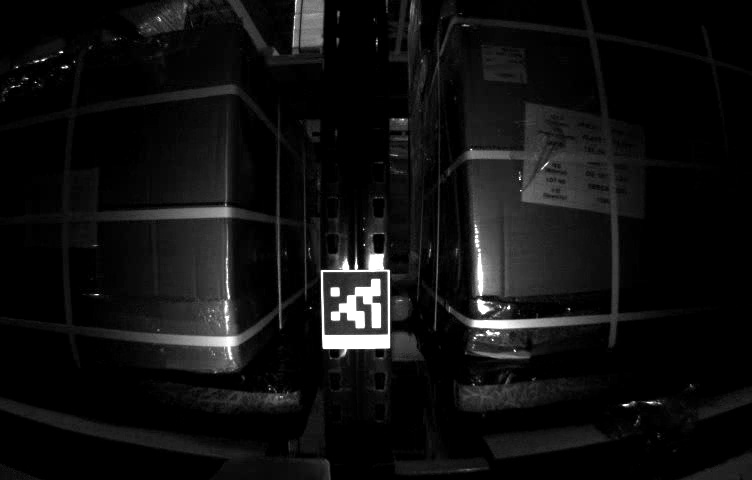True Barcode: (481, 43, 530, 84)
